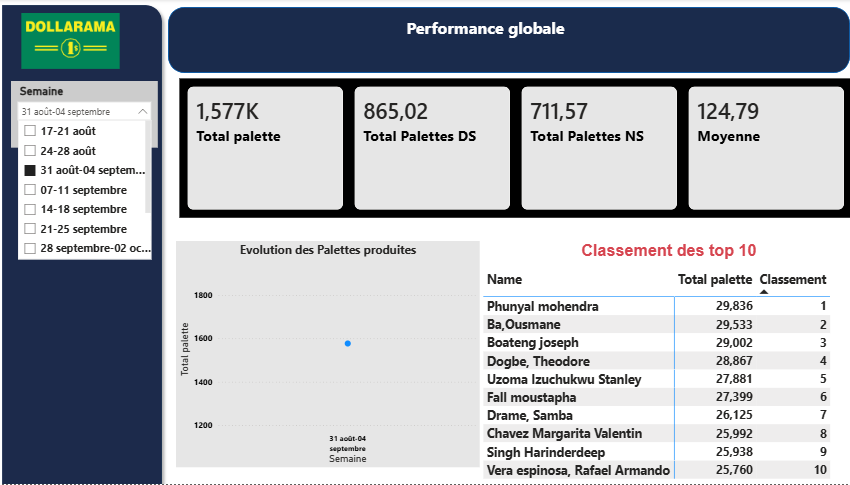

This screenshot's page, from the dashboard's own definition file:
{"tool":"powerbi","page":{"name":"Page 1","canvas":[1280,720],"ordinal":0},"visuals":[{"type":"shape","box":[255.4,11.9,1012.7,98],"z":5},{"type":"shape","box":[0,0,255.4,849.4],"z":6},{"type":"textbox","box":[403.9,20.8,645.9,68.3],"z":8},{"type":"image","box":[35.6,20.8,150,83.2],"z":9},{"type":"slicer","fields":{"Values":["Table.Semaine"]},"box":[22.3,121.8,218.3,66.8],"z":10},{"type":"areaChart","title":"Evolution  des Palettes produites","fields":{"Category":["Table.Semaine"],"Y":["Mesures.Total palette"]},"box":[267.2,359.1,451.1,335.5],"z":12},{"type":"cardVisual","fields":{"Data":["Mesures.Total palette","Mesures.Total Palettes DS","Mesures.Total Palettes NS","Mesures.Moyenne"]},"box":[267.2,113.1,1012.8,217.5],"z":13},{"type":"pivotTable","title":"Classement  par palettes produites","fields":{"Rows":["Table.Name"],"Values":["Mesures.Total palette","Mesures.Rang Pal"]},"box":[718.7,359.4,561.3,349],"z":14}]}

Visuals, with their boxes in screenshot pixels (x1, y1, x2, y2), scaled from the page's 1280x720 canvas onto the 850x485 screenshot:
shape: pyautogui.locateOnScreen(170, 8, 842, 74)
shape: pyautogui.locateOnScreen(0, 0, 170, 484)
textbox: pyautogui.locateOnScreen(268, 14, 697, 60)
image: pyautogui.locateOnScreen(24, 14, 123, 70)
slicer - Table.Semaine: pyautogui.locateOnScreen(15, 82, 160, 127)
"Evolution  des Palettes produites" areaChart: pyautogui.locateOnScreen(177, 242, 477, 468)
cardVisual - Mesures.Total palette x Mesures.Total Palettes DS: pyautogui.locateOnScreen(177, 76, 849, 223)
"Classement  par palettes produites" pivotTable: pyautogui.locateOnScreen(477, 242, 849, 477)
